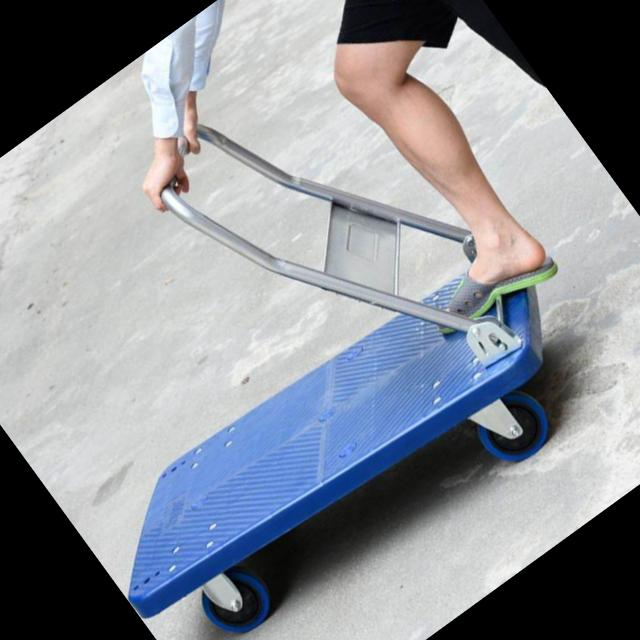Person: (80, 0, 640, 542)
